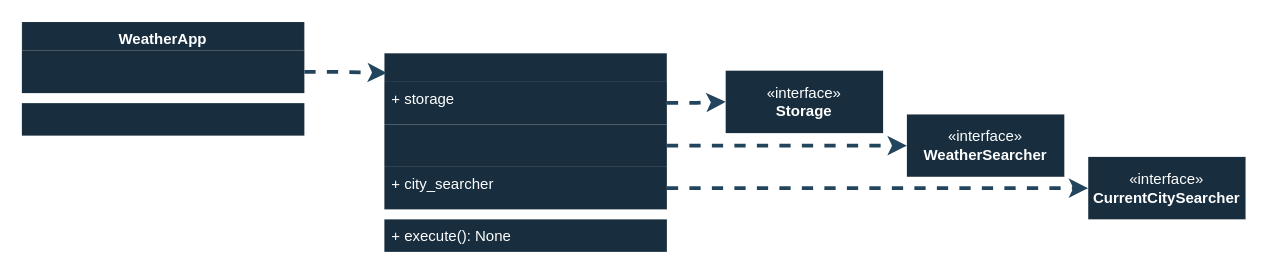
Some shapes in this 1268 by 276 pixel diagram are drawn without their labels. The box of each missing label's shape, as (x1, y1, x2, y2) in pixels:
+ action_manager: ActionManager: (21, 50, 304, 92)
+ start(): None: (21, 102, 304, 135)
+ weather_searcher: (384, 124, 666, 166)
ActionManager: (384, 52, 666, 251)
